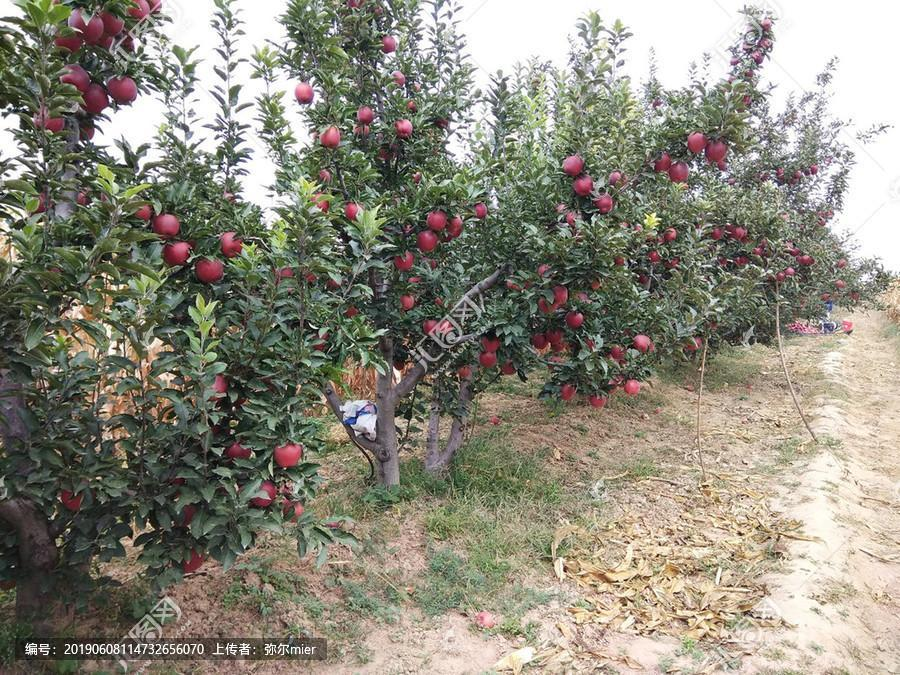apple: (216, 230, 248, 258), (152, 213, 182, 241), (397, 115, 414, 138)
